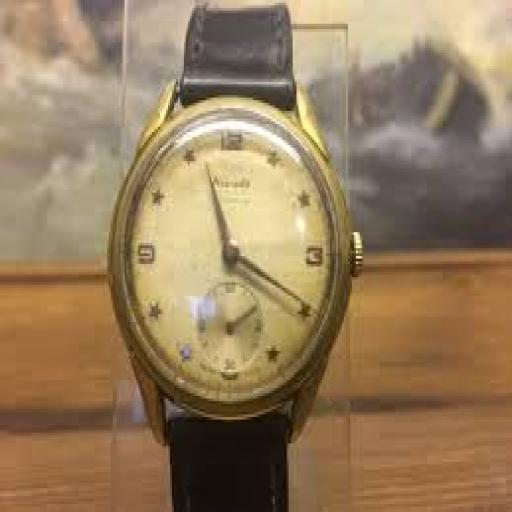KolSaati: (102, 0, 371, 507)
